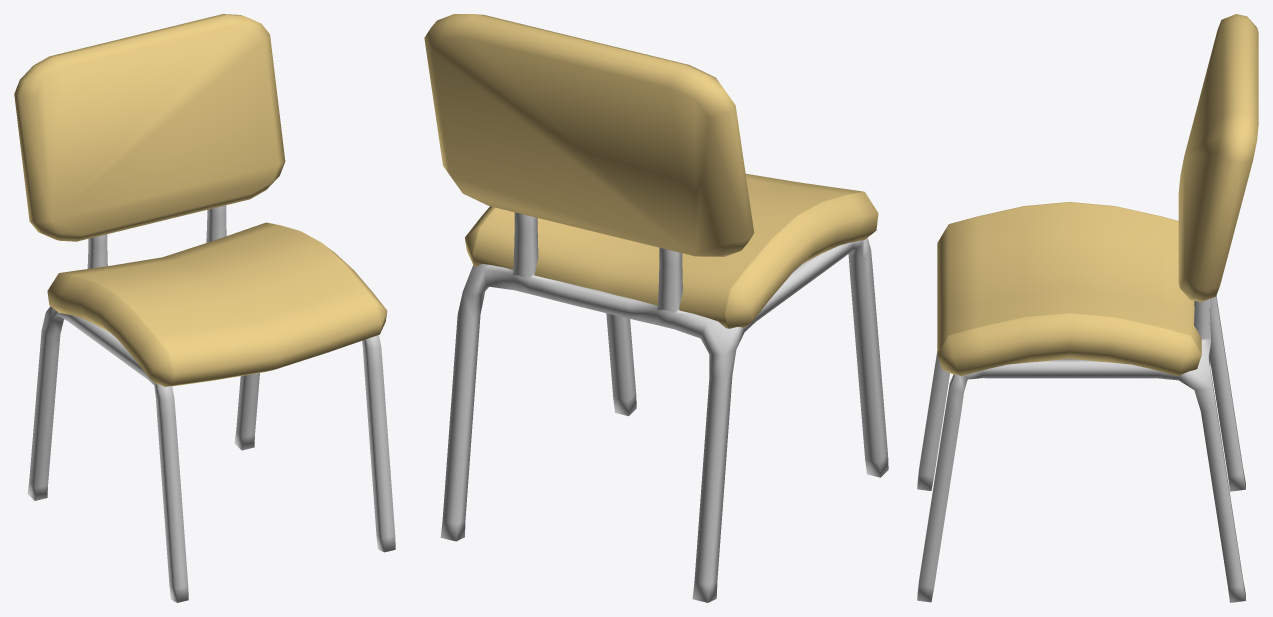
File: Prop_Chair_06.fbx
The picture shows the model from 3 angles, left to right: view 1: azimuth 30°, elevation 25°; view 2: azimuth 150°, elevation 25°; view 3: azimuth 270°, elevation 25°; orthographic projection. The views are drawn at different scales.
Parts seen in each view (by area): view 1: Prop_Chair_06; view 2: Prop_Chair_06; view 3: Prop_Chair_06.
Part boxes in pixels (<box>): Prop_Chair_06: <box>14,14,395,602</box>; Prop_Chair_06: <box>424,14,888,602</box>; Prop_Chair_06: <box>917,14,1258,602</box>.
Size of the model in its own units: 51.27 by 84.97 by 54.88.
